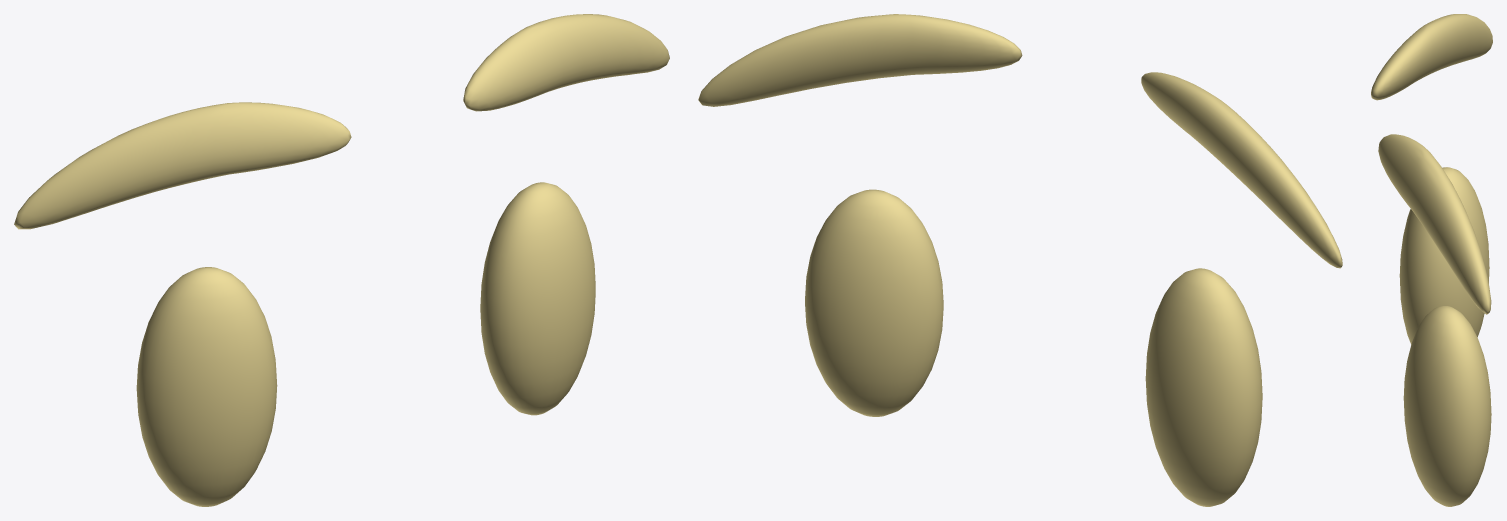
The model's file is MannaquinFace4Isolated.dae.
3 views of the same model, side by side, from view 1: azimuth 30°, elevation 25°; view 2: azimuth 150°, elevation 25°; view 3: azimuth 270°, elevation 25° (orthographic). The views are drawn at different scales.
Visible parts, largest first — view 1: Sphere_003, Sphere_002, Sphere_001, Sphere_004; view 2: Sphere_002, Sphere_003, Sphere_004, Sphere_001; view 3: Sphere_002, Sphere_004, Sphere_003, Sphere_001.
Boxes of the visible parts, <box> form: Sphere_003: <box>136,267,277,506</box>; Sphere_002: <box>480,182,595,415</box>; Sphere_001: <box>14,102,351,229</box>; Sphere_004: <box>463,14,669,111</box>; Sphere_002: <box>805,189,943,416</box>; Sphere_003: <box>1145,268,1262,506</box>; Sphere_004: <box>698,14,1022,106</box>; Sphere_001: <box>1141,72,1342,268</box>; Sphere_002: <box>1403,306,1491,506</box>; Sphere_004: <box>1378,134,1491,314</box>; Sphere_003: <box>1399,167,1489,344</box>; Sphere_001: <box>1371,14,1492,100</box>.
Bounding box in the file's own units: 0.8678 × 0.1628 × 0.5198.
